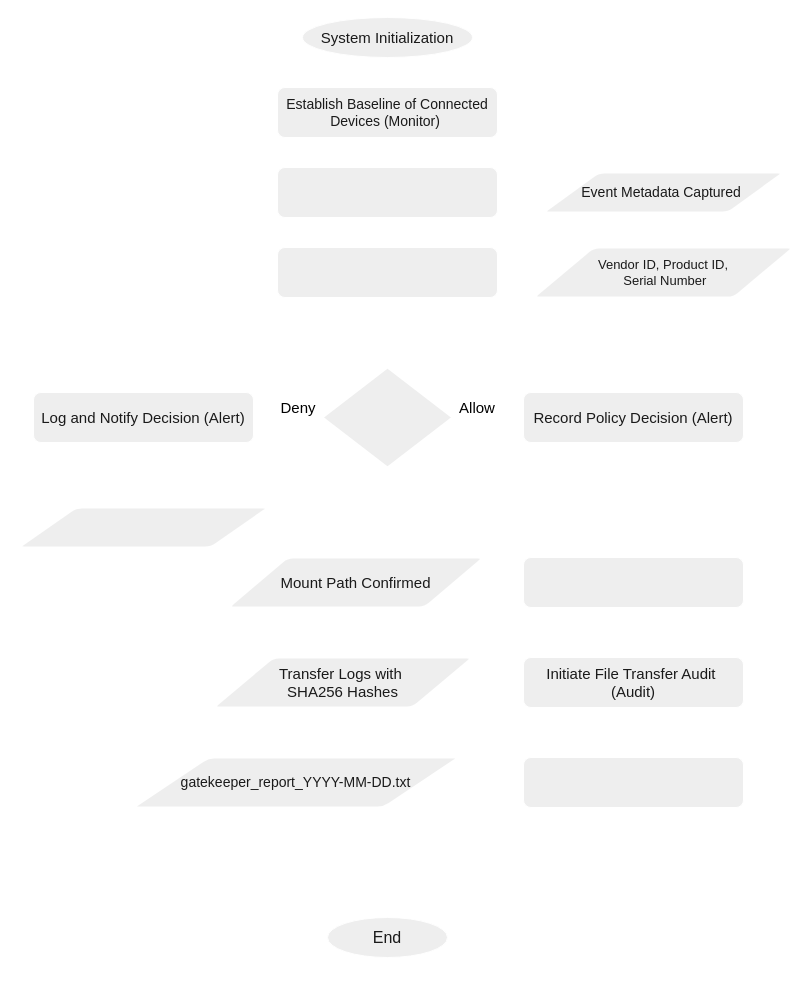
Image size: 811x983. Some labels were removed from this diagram. Here are the shapes that lost their labels. From the top down, the box of each, then its label:
(276, 166, 498, 218): Detect USB Event (Insertion/Removal)
(276, 246, 498, 298): Extract Device Attributes (Identify)
(321, 366, 453, 468): Evaluate Policy Rules
(17, 506, 269, 548): Alert Record Generated
(522, 556, 744, 608): Await Device Mount Path (Audit Trigger)
(522, 756, 744, 808): Generate Consolidated Daily Report (Report)
